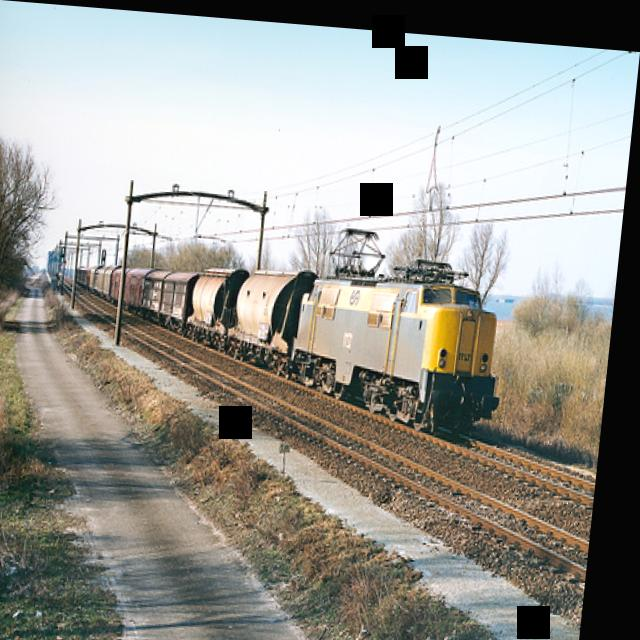boxcar: (164, 261, 209, 332)
locomotive: (289, 231, 523, 433)
tank: (230, 255, 327, 372), (192, 255, 257, 341)
